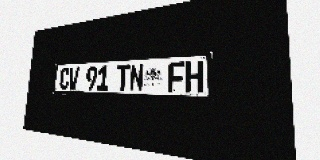1: (96, 65, 109, 91)
9: (85, 66, 98, 90)
C: (59, 67, 70, 90)
F: (167, 61, 185, 92)
H: (185, 60, 203, 93)
N: (129, 64, 144, 91)
T: (116, 64, 130, 91)
V: (68, 67, 79, 90)
